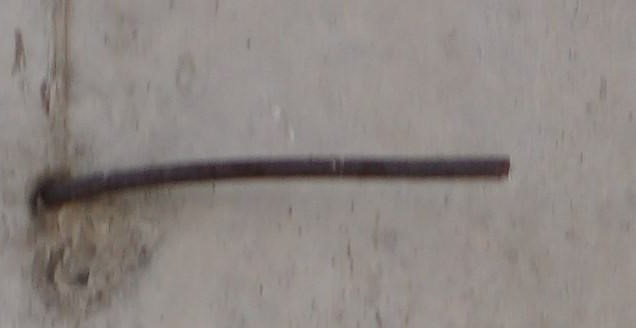Exposed reinforcement: (39, 152, 512, 210)
Spalling: (30, 222, 152, 326)
